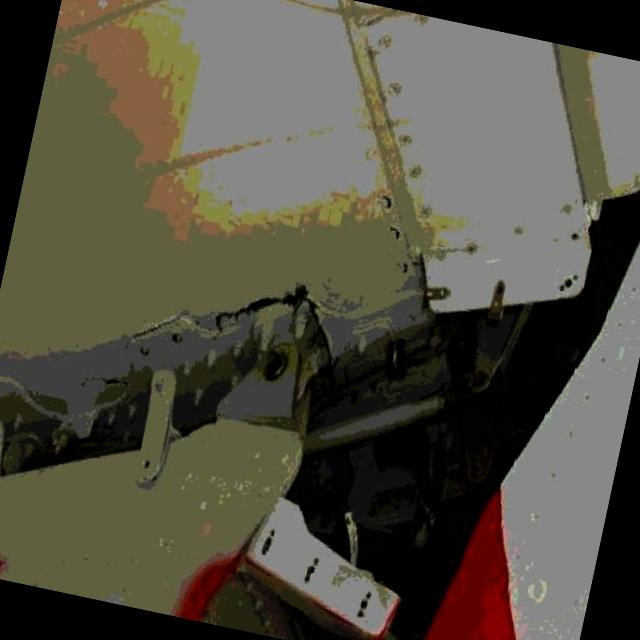crack: (216, 276, 296, 331)
